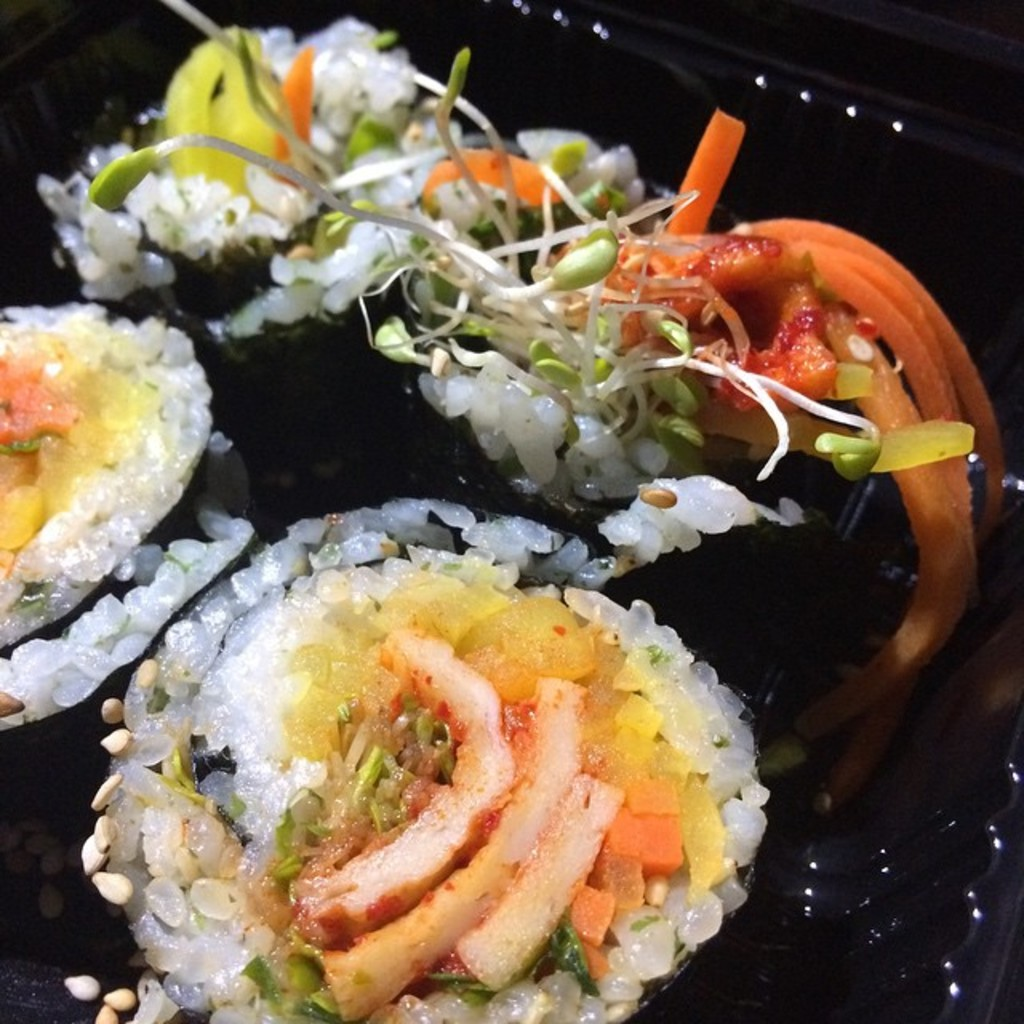sushi: (3, 0, 1010, 1022), (0, 288, 288, 659)
